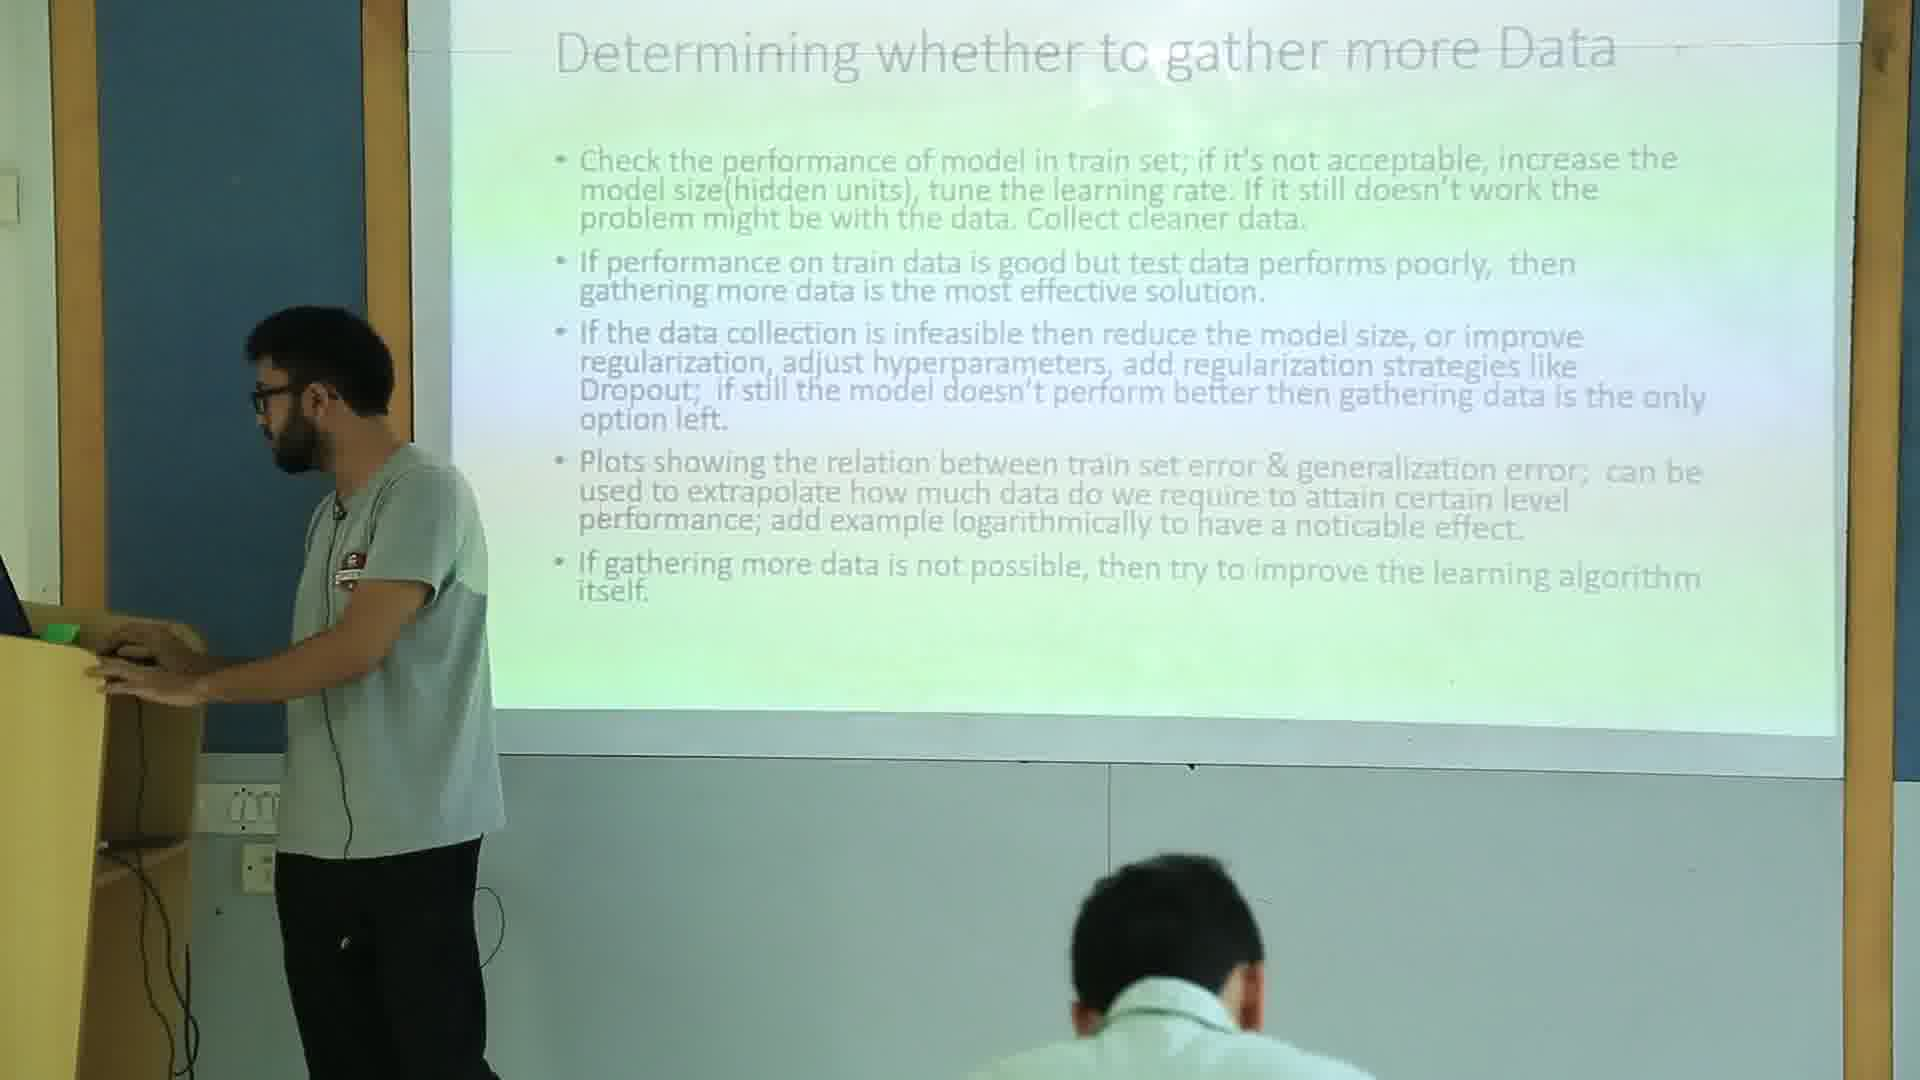slide: (451, 3, 1836, 733)
